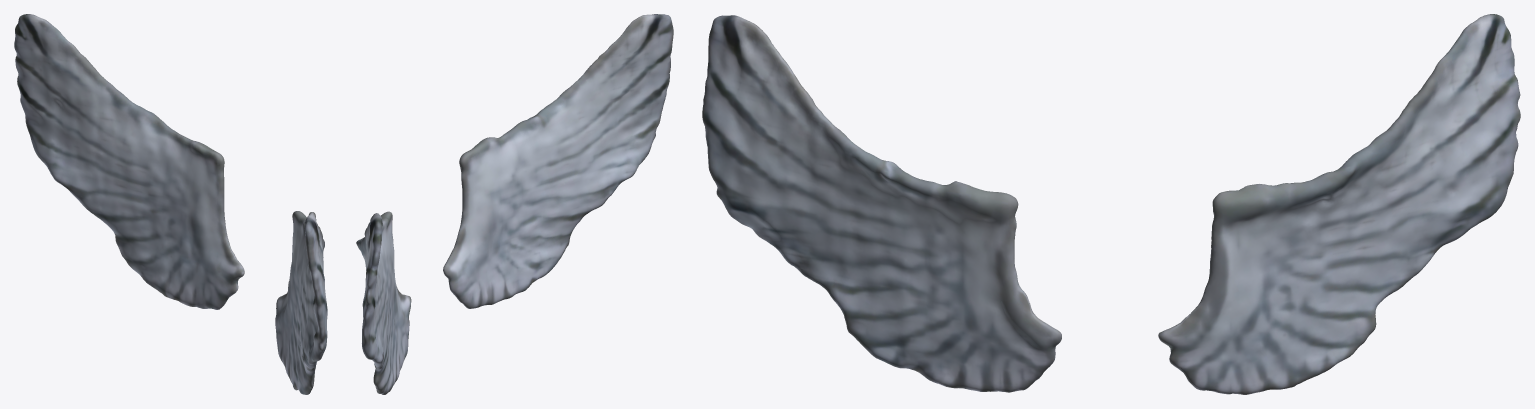
Rendered from ac49d5737e5b_Wings__3d_asset_0_glb.glb.
3 views of the same model, side by side, from view 1: azimuth 30°, elevation 25°; view 2: azimuth 150°, elevation 25°; view 3: azimuth 270°, elevation 25° (orthographic). The views are drawn at different scales.
Visible parts, largest first — view 1: world; view 2: world; view 3: world.
Part boxes in pixels (x1,y1,x2,y2): world: (14, 14, 327, 394); world: (356, 14, 673, 394); world: (702, 14, 1520, 394).
Bounding box in the file's own units: 0.111 × 0.248 × 0.5545.
1 material, 1 textured.
